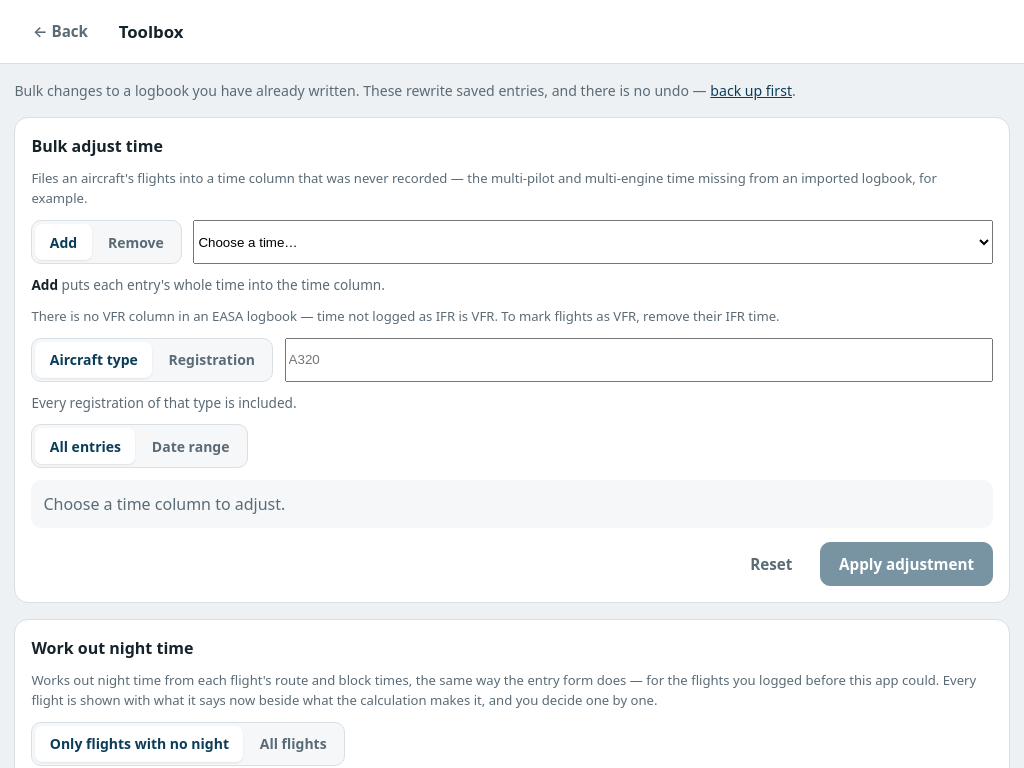
keeping what was logged › offers it under "All flights", and warns that it would be replaced
Click the button "All flights" at [293, 744], box [245,726,341,762]
(page scrolled)
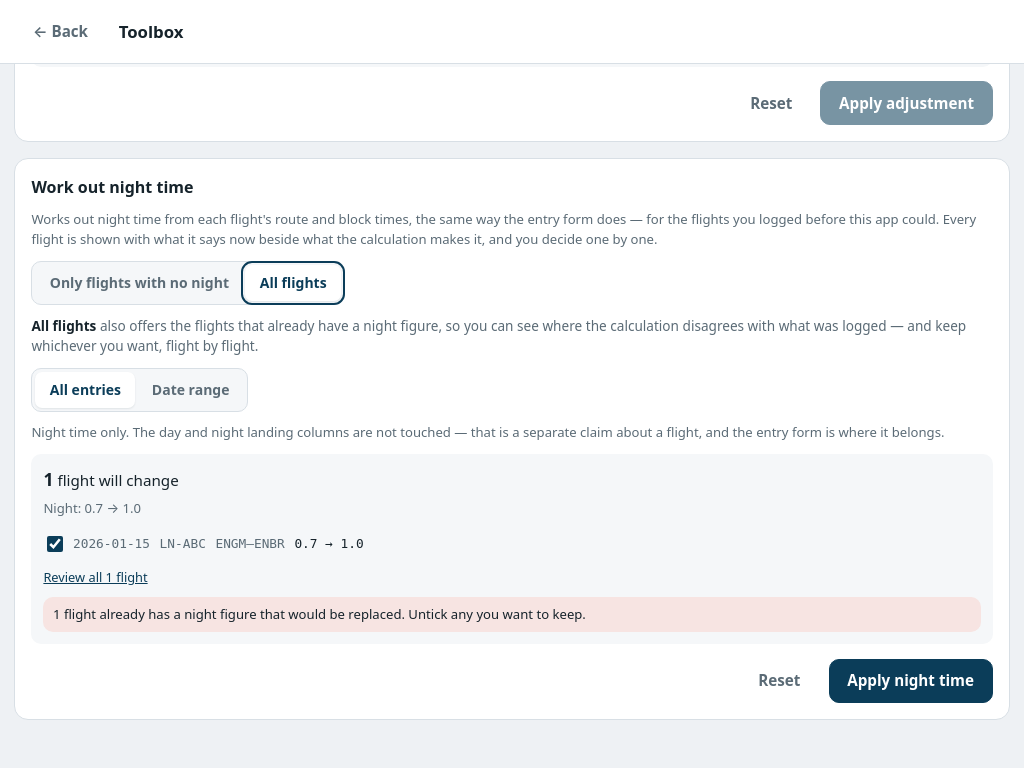
Expected: the message named "Night time summary" shows "would be replaced", [53,605,586,623]
